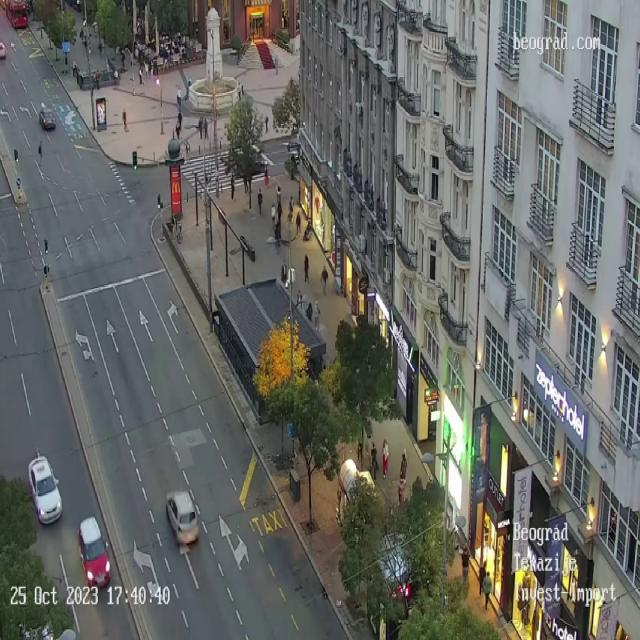bus: (6, 0, 27, 26)
car: (77, 515, 111, 591), (28, 454, 62, 525), (166, 490, 199, 546), (39, 109, 56, 130)
